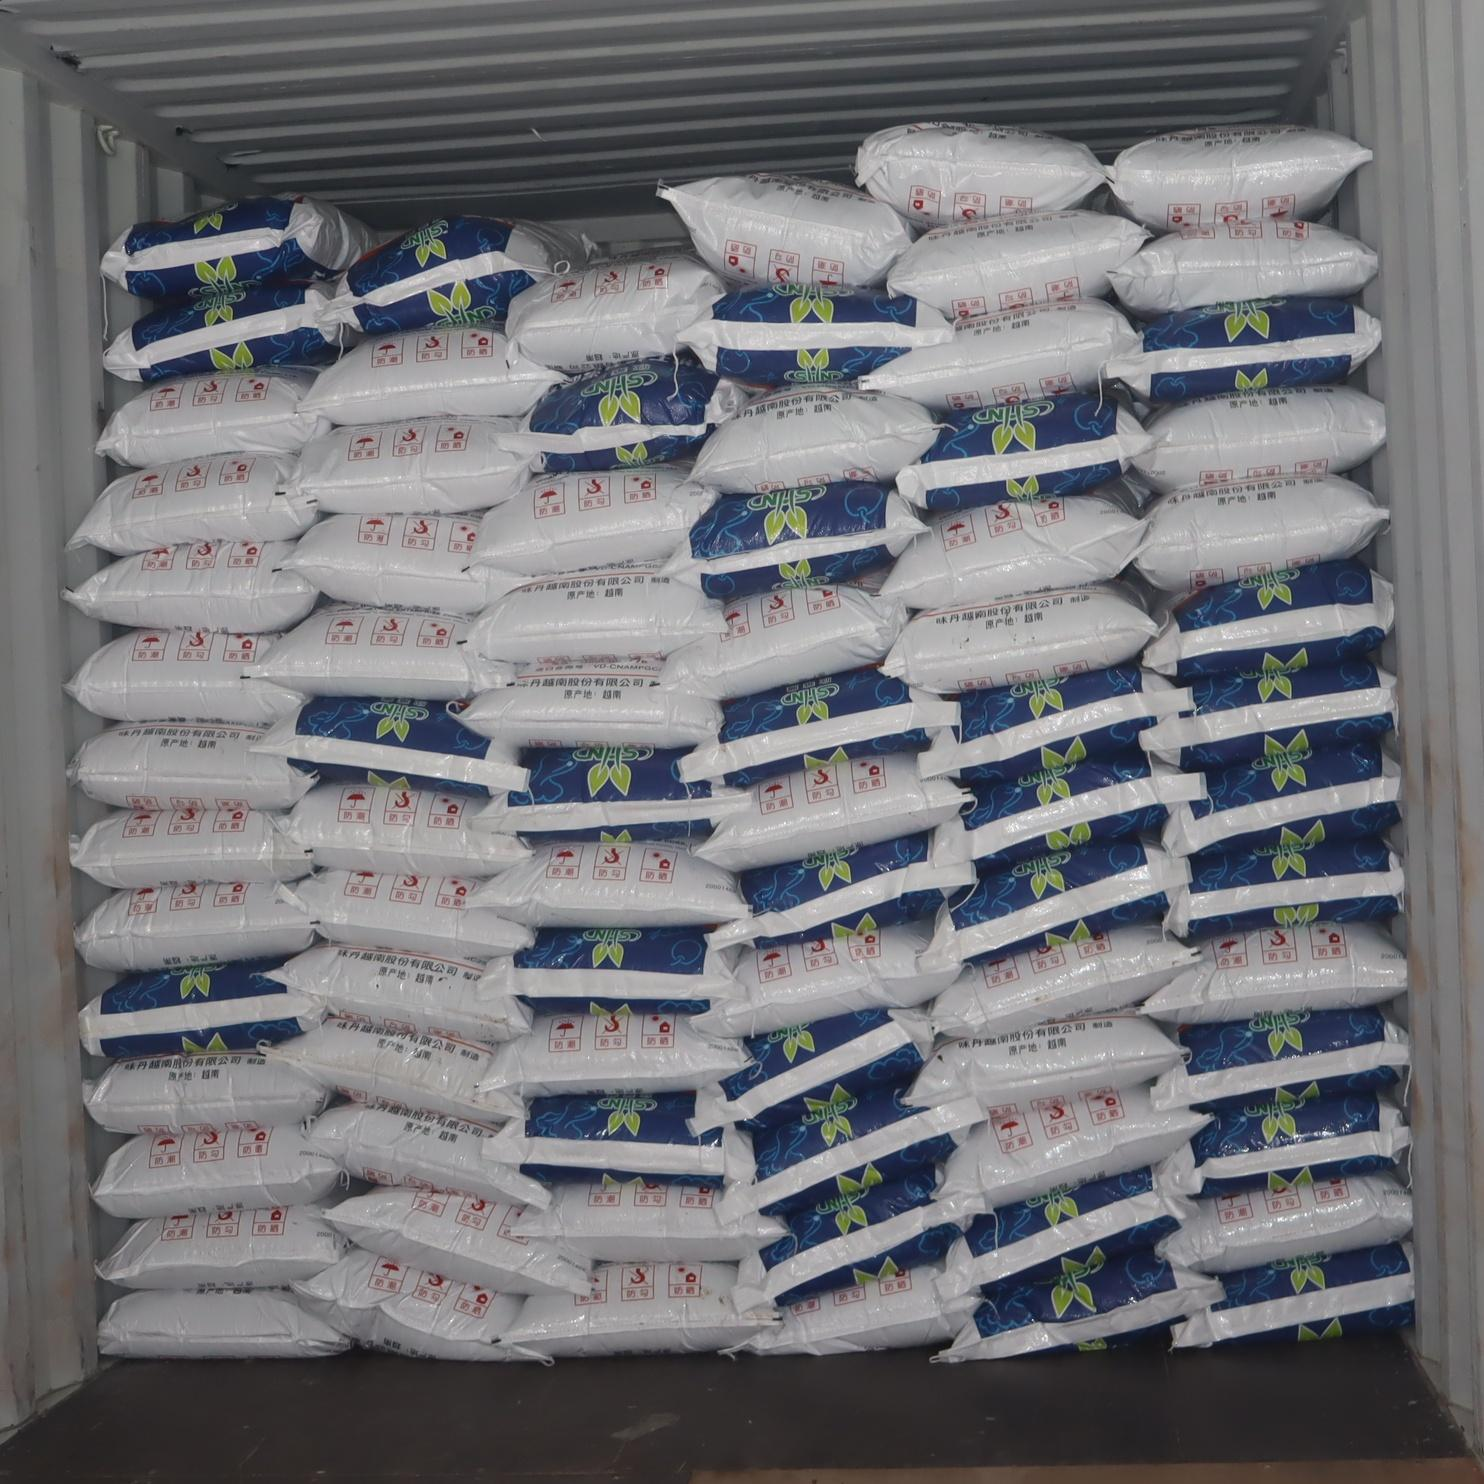sack: (720, 1090, 987, 1218), (939, 1089, 1207, 1214), (940, 1166, 1193, 1296), (679, 669, 959, 785), (697, 753, 970, 870), (919, 665, 1192, 781), (662, 481, 925, 601), (734, 1171, 964, 1307), (930, 840, 1186, 961), (862, 299, 1139, 410), (688, 1008, 932, 1133), (931, 921, 1199, 1036), (328, 215, 584, 333), (692, 921, 957, 1036), (709, 830, 974, 944), (292, 1248, 553, 1363), (1144, 559, 1393, 679), (947, 1250, 1220, 1360), (883, 584, 1156, 693), (883, 495, 1144, 607), (898, 394, 1152, 510), (1133, 476, 1388, 591), (323, 1186, 591, 1295), (1105, 298, 1381, 402), (658, 174, 912, 287), (101, 196, 374, 299), (679, 285, 953, 389), (501, 357, 746, 472), (1142, 660, 1396, 769), (889, 211, 1148, 317), (1109, 125, 1371, 230), (662, 587, 905, 699), (470, 466, 716, 576), (253, 699, 529, 796), (476, 743, 747, 843), (1144, 921, 1408, 1022), (950, 757, 1203, 862), (243, 603, 512, 701), (506, 1258, 775, 1356), (270, 944, 529, 1046), (506, 253, 724, 372), (1133, 387, 1383, 492), (1165, 742, 1398, 853), (482, 1093, 756, 1188), (908, 1012, 1181, 1108), (1152, 1008, 1409, 1109), (266, 1017, 516, 1120), (1173, 1241, 1413, 1348), (304, 325, 563, 424), (1110, 219, 1378, 314), (1158, 1173, 1411, 1273), (67, 453, 315, 554), (858, 124, 1105, 226), (307, 1103, 548, 1208), (694, 389, 936, 492), (470, 564, 724, 662), (79, 958, 323, 1057), (284, 514, 522, 616), (458, 656, 722, 747), (105, 284, 348, 382), (473, 843, 747, 928), (1166, 837, 1402, 936), (65, 538, 317, 631), (518, 1176, 784, 1262), (478, 927, 739, 1015), (484, 1010, 747, 1097), (92, 1125, 340, 1218), (1186, 1093, 1411, 1195), (64, 628, 303, 723), (95, 371, 330, 467), (279, 870, 531, 959), (291, 419, 529, 514), (280, 784, 529, 874), (75, 877, 314, 969), (739, 1262, 969, 1355), (68, 722, 311, 809), (98, 1205, 347, 1288), (84, 1052, 328, 1133), (71, 805, 310, 887), (98, 1290, 351, 1358)
